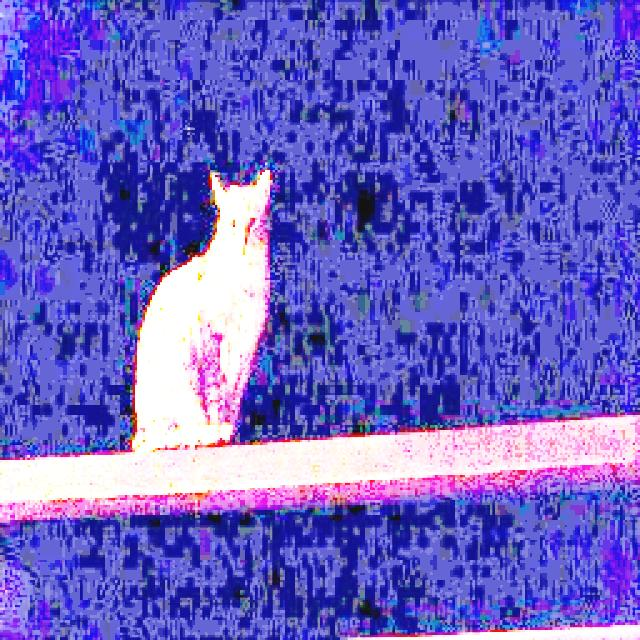cat: (121, 170, 274, 454)
